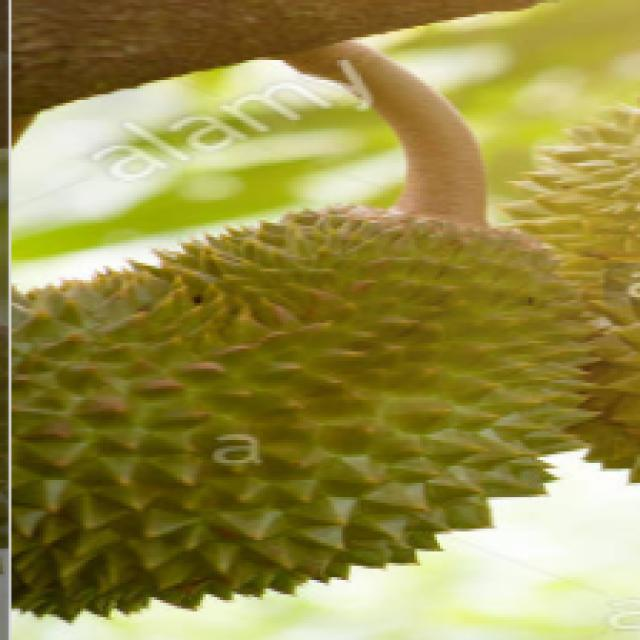d197: (0, 207, 589, 636), (510, 105, 640, 490)
